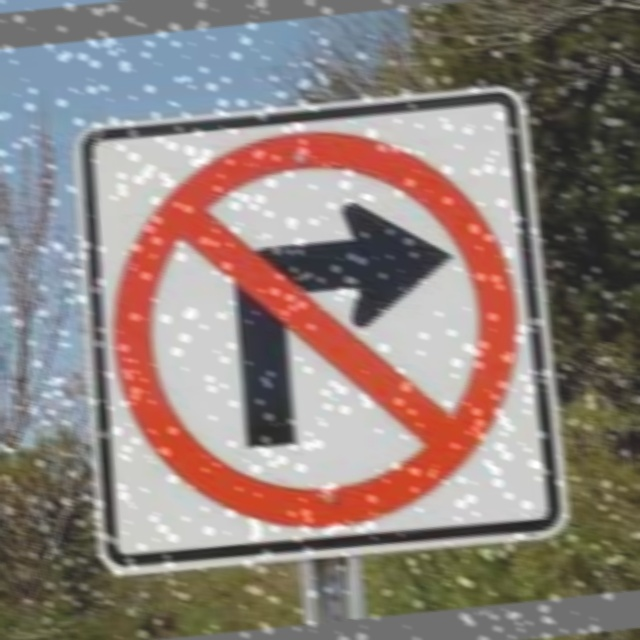Right_Turn_Prohibited: (89, 89, 544, 547)
